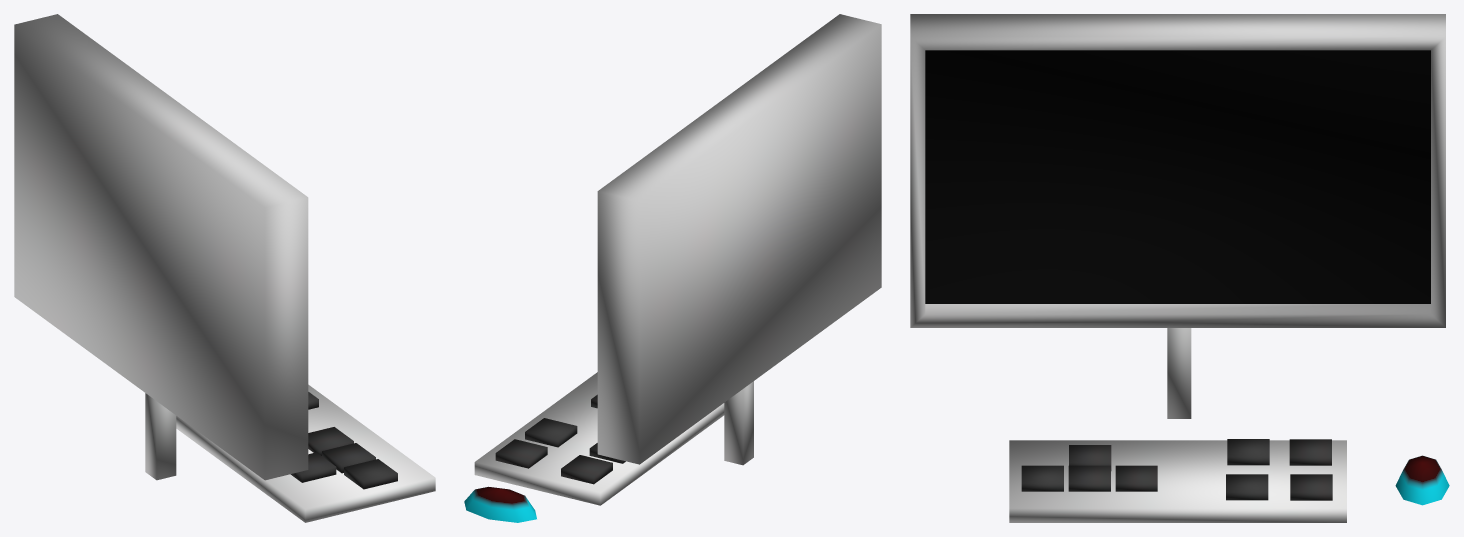
Rendered from Perifericos.fbx.
The picture shows the model from 3 angles, left to right: view 1: azimuth 30°, elevation 25°; view 2: azimuth 150°, elevation 25°; view 3: azimuth 270°, elevation 25°; orthographic projection. The views are drawn at different scales.
Parts seen in each view (by area): view 1: Perifericos; view 2: Perifericos; view 3: Perifericos.
Part boxes in pixels (x1=…): Perifericos: x1=14, y1=14, x2=435, y2=522; Perifericos: x1=464, y1=14, x2=881, y2=522; Perifericos: x1=910, y1=14, x2=1449, y2=522.
Bounding box in the file's own units: 34.65 × 56.47 × 69.75.
Materials: 1 (1 with a texture image).
